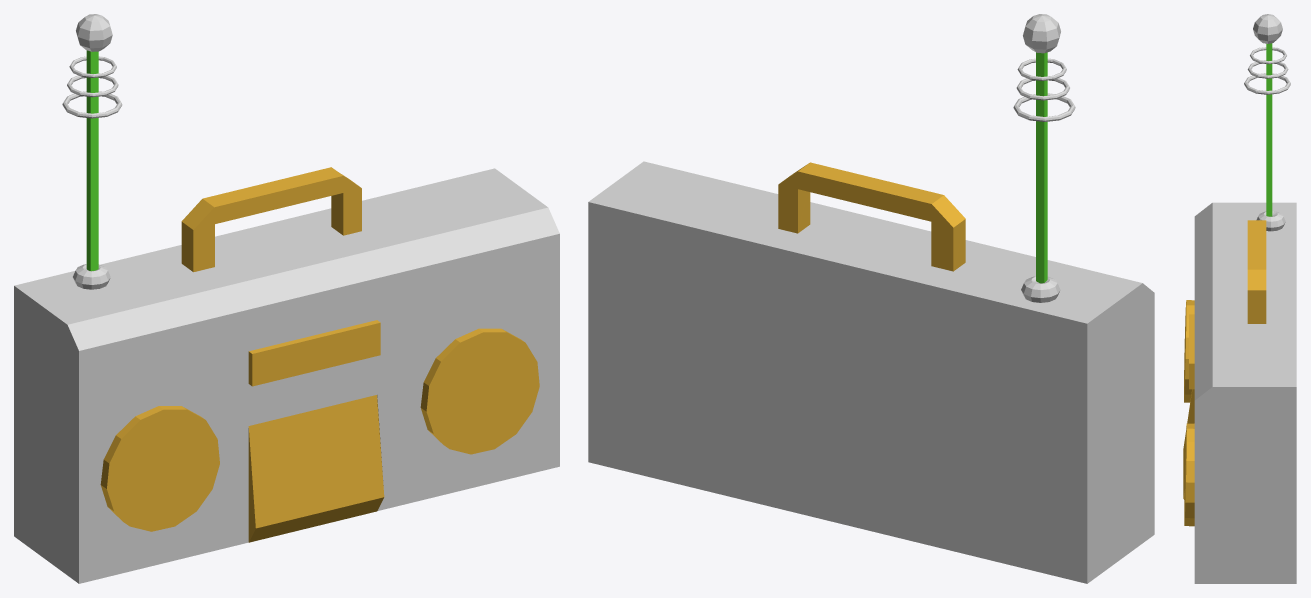
The model's file is Boombox.fbx.
The picture shows the model from 3 angles, left to right: view 1: azimuth 30°, elevation 25°; view 2: azimuth 150°, elevation 25°; view 3: azimuth 270°, elevation 25°; orthographic projection. The views are drawn at different scales.
Parts seen in each view (by area): view 1: Boombox; view 2: Boombox; view 3: Boombox.
Part boxes in pixels (left/top/right/bottom): Boombox: left=14, top=14, right=559, bottom=583; Boombox: left=588, top=14, right=1154, bottom=583; Boombox: left=1183, top=14, right=1296, bottom=583.
Size of the model in its own units: 104 by 108 by 27.11.
